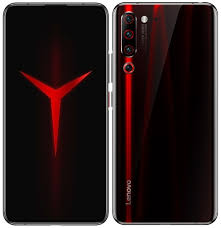lenovo: (110, 1, 221, 228), (1, 1, 110, 228)
